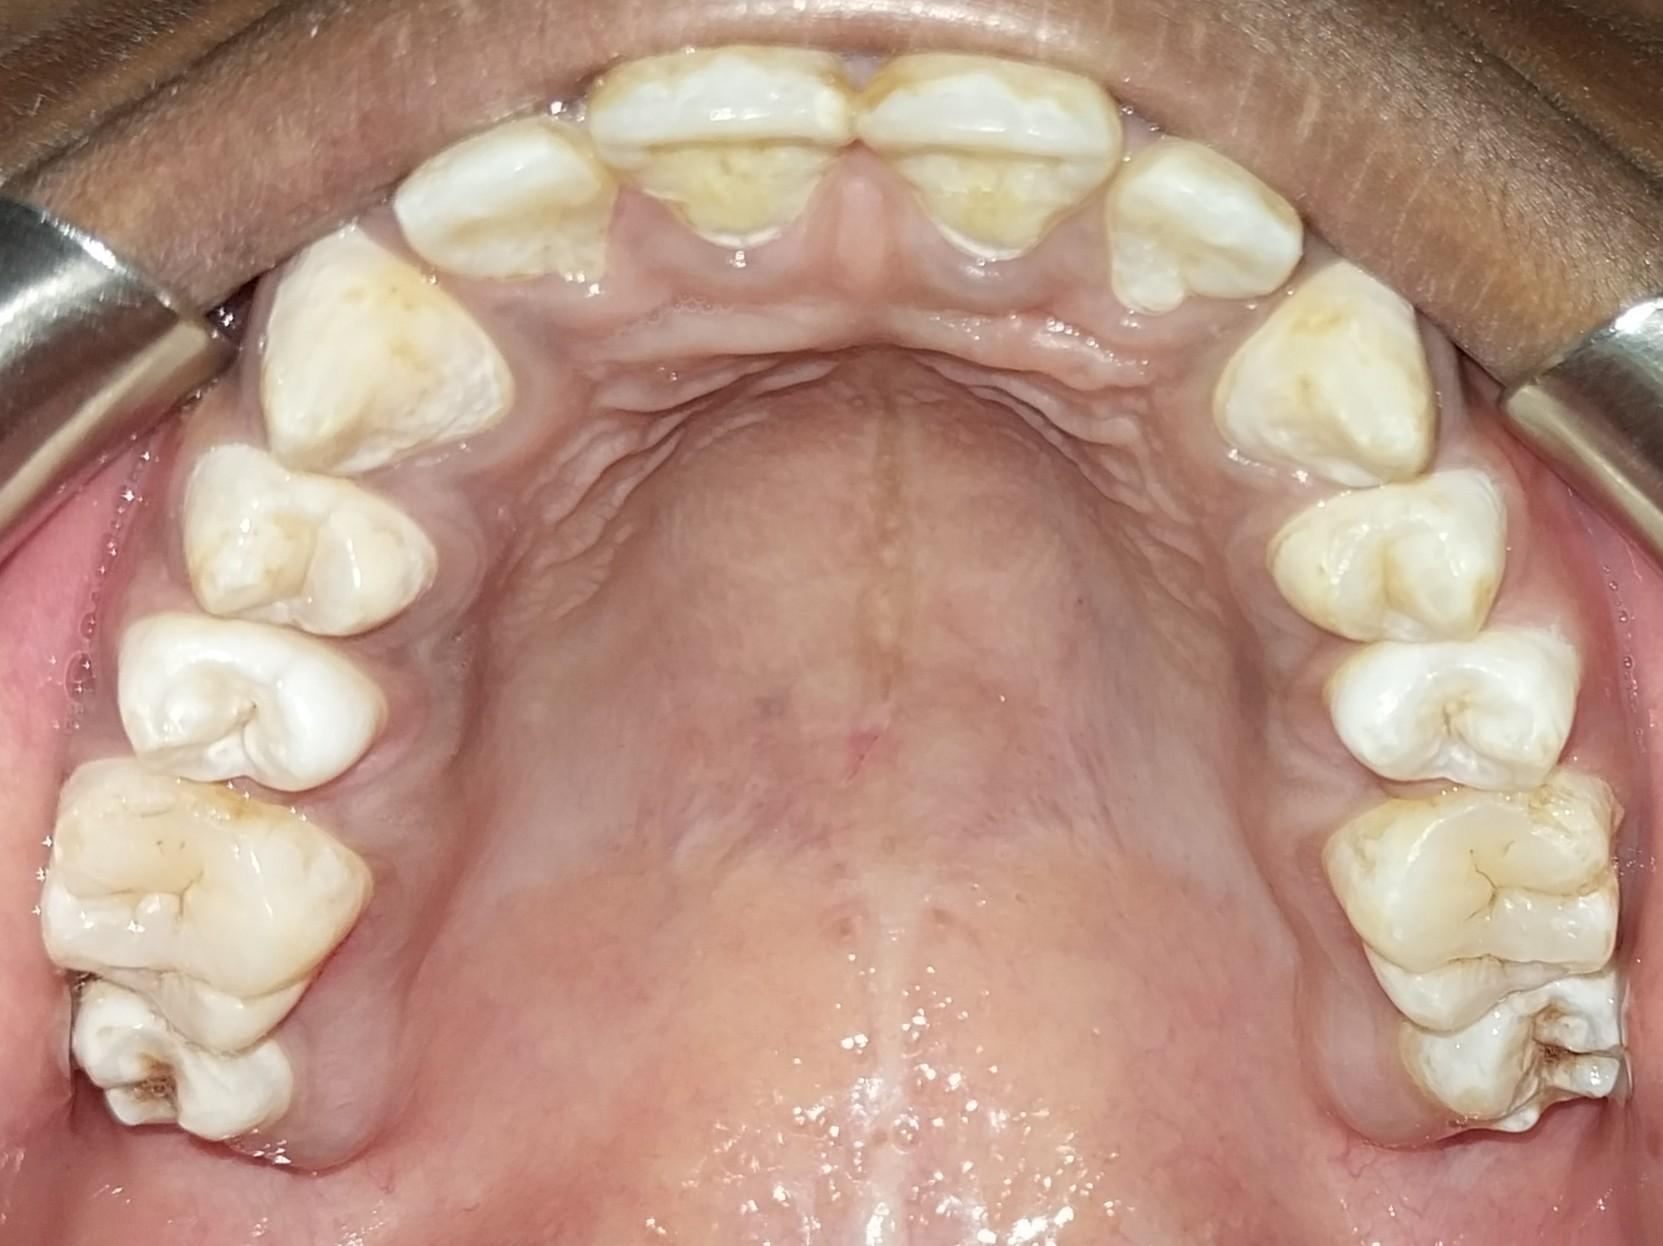D: (1407, 983, 1637, 1133), (70, 985, 285, 1138)
